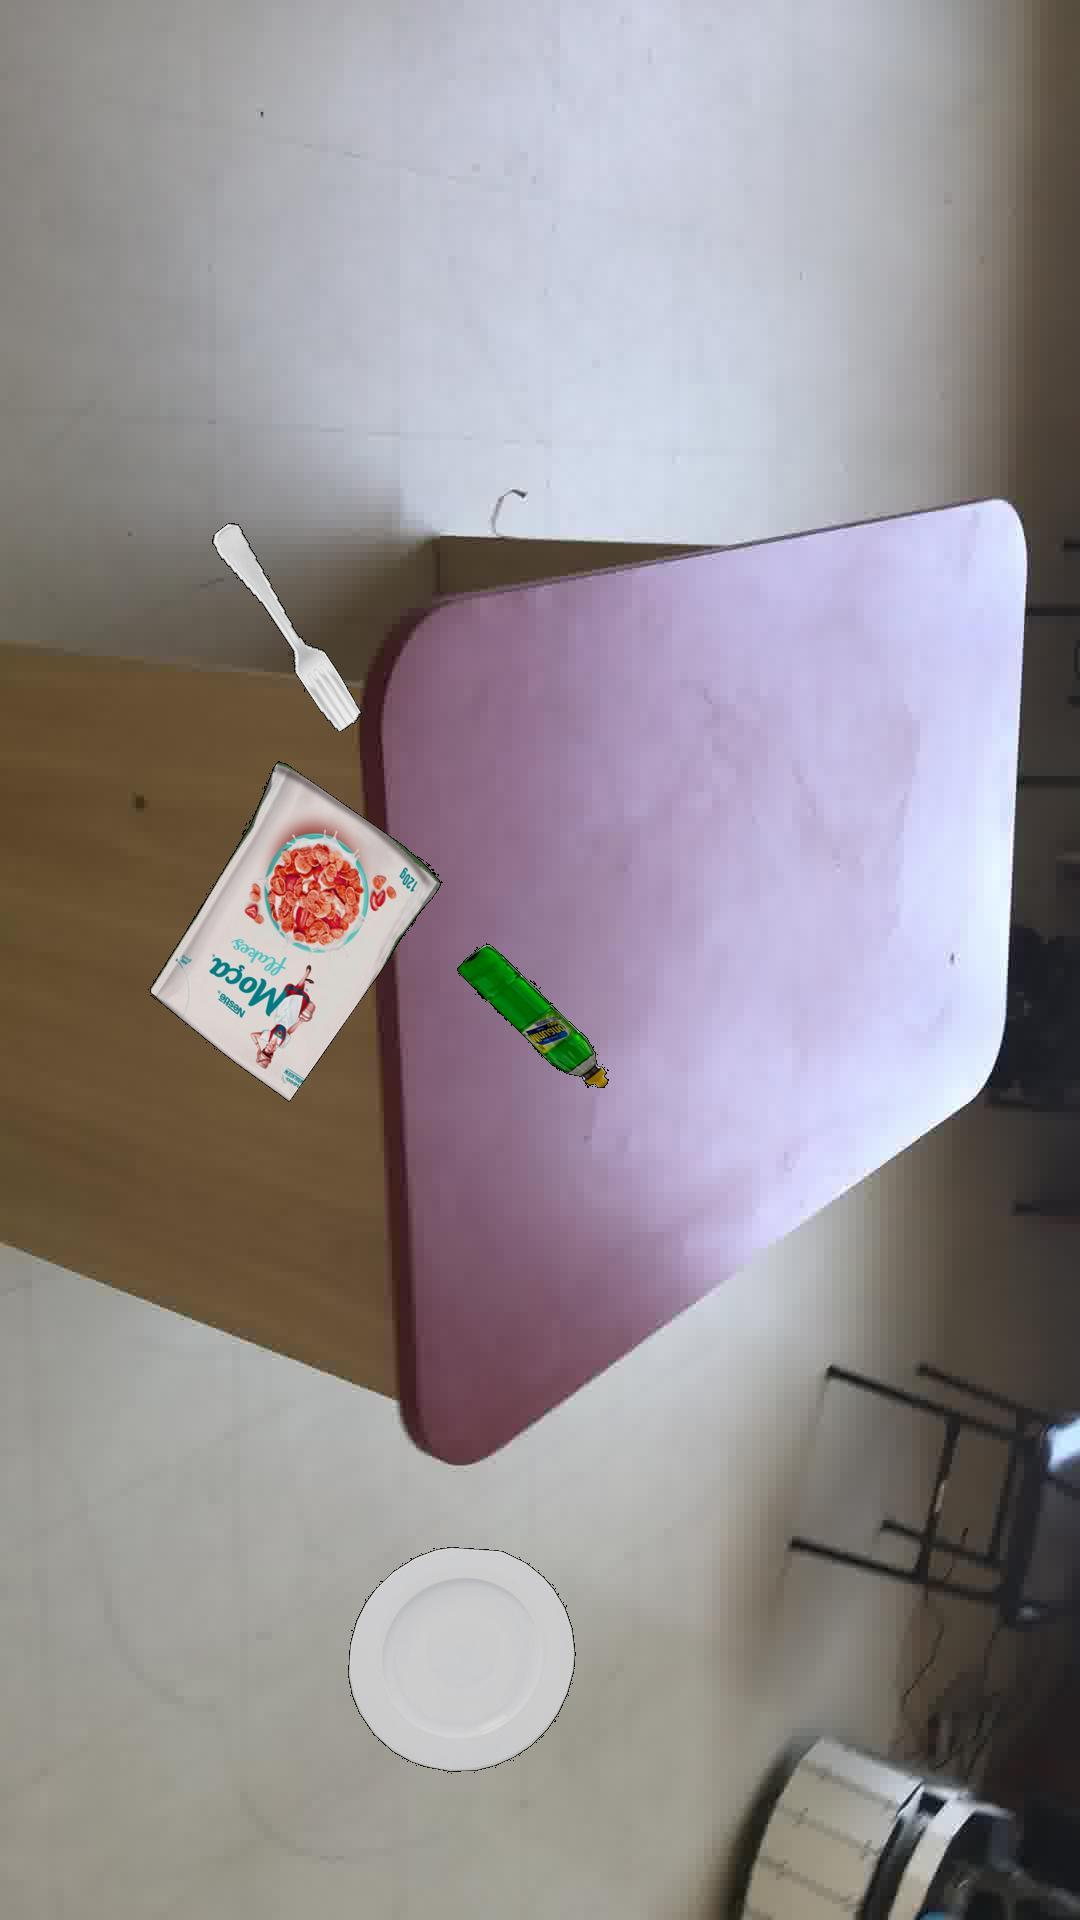cleaner: (455, 942, 608, 1087)
corn flakes: (149, 760, 442, 1101)
fork: (211, 521, 360, 731)
plate: (347, 1545, 575, 1771)
